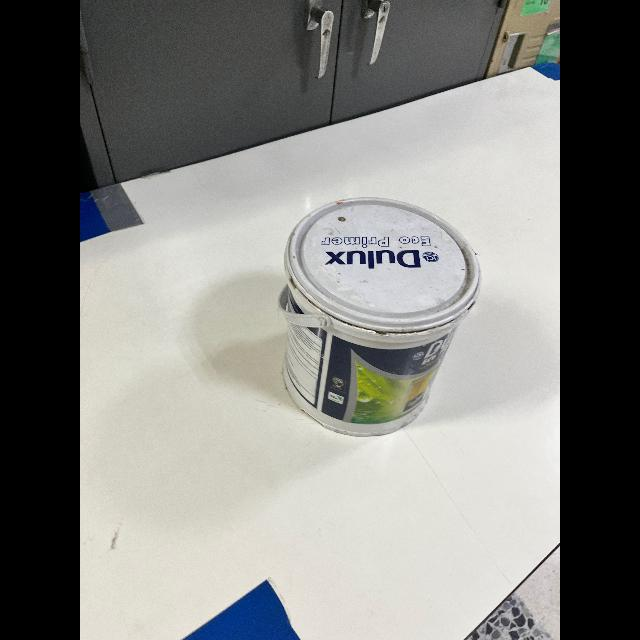paint_bucket: (256, 178, 498, 444)
